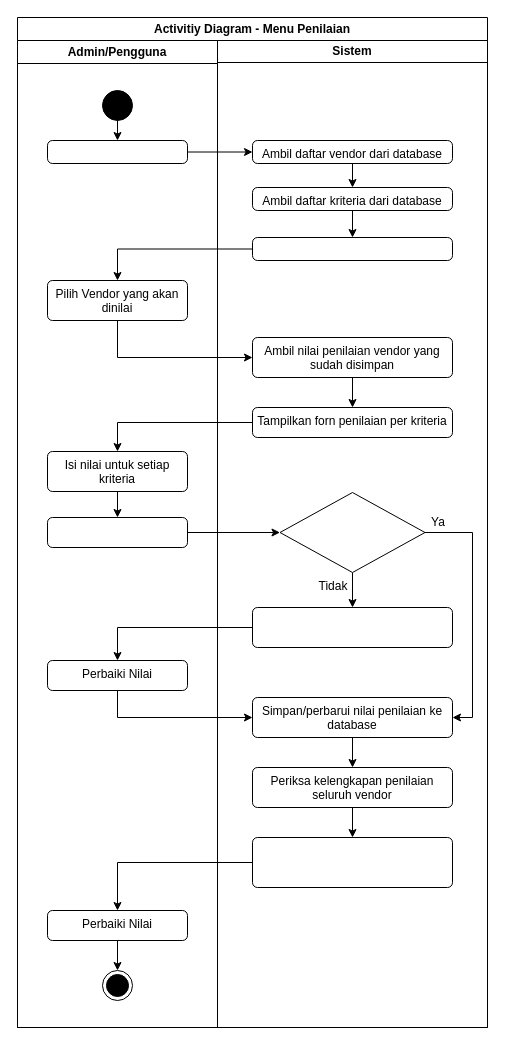
Some shapes in this 505 by 1045 pixel diagram are drawn without their labels. The shapes that lost their labels are listed below. From the top down, each one's centre as x and y in pixels, then its label:
[117,152]: Pilih menu "Penilaian"
[352,248]: Tampilkan form pemilihan vandor
[117,532]: Klik "Simpan"
[352,532]: nilai kriteria > 0 ?
[352,627]: tampilkan error " semua nilai harus diisi" atau "nilai harus lebih dari 0"
[352,862]: tampilkan notifikasi "Penilaian berhasil disimpan" beserta status kelengkapan
